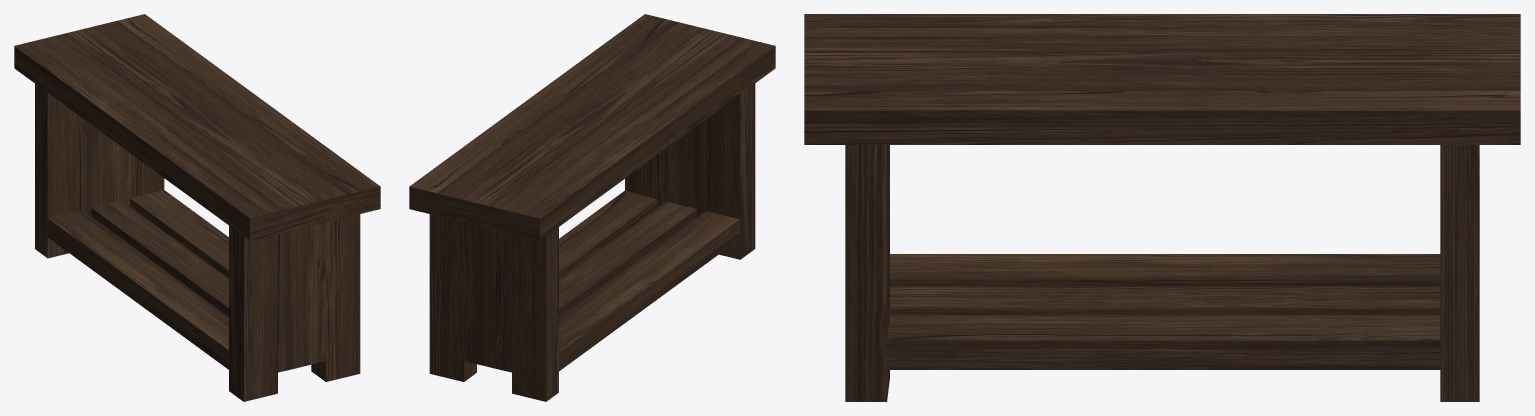
File: F_Table_01.fbx
3 views of the same model, side by side, from view 1: azimuth 30°, elevation 25°; view 2: azimuth 150°, elevation 25°; view 3: azimuth 270°, elevation 25° (orthographic). The views are drawn at different scales.
Visible parts, largest first — view 1: F_Table_01; view 2: F_Table_01; view 3: F_Table_01.
Boxes of the visible parts, box(x1,y1,x2,y2) form: F_Table_01: box(14, 14, 380, 401); F_Table_01: box(409, 14, 775, 401); F_Table_01: box(804, 14, 1520, 401).
Bounding box in the file's own units: 58.65 × 83.74 × 183.
1 material, 1 textured.
